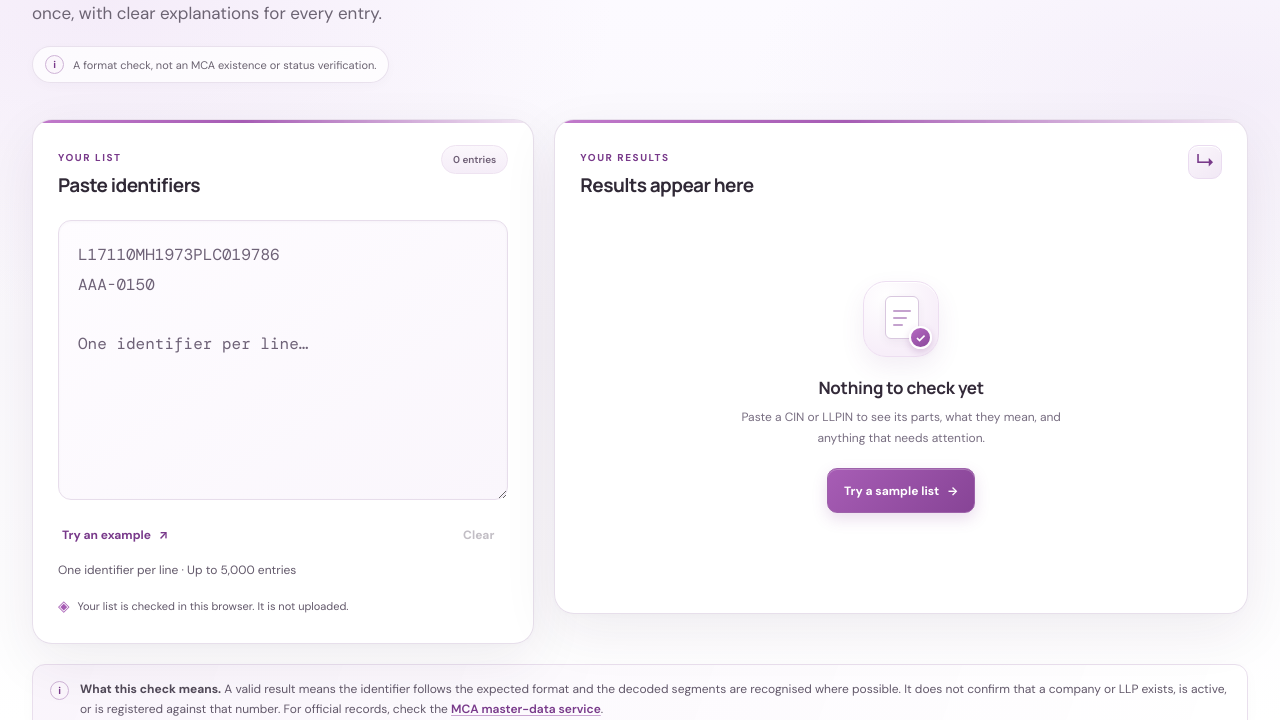
FileSure checker interface › clears the list and returns to the empty state
The width and height of the screenshot is (1280, 720).
(page scrolled)
Type "L17110MH1973PLC019786" into the text box named "Paste one CIN or LLPIN per line" at (283, 360), box [58,220,508,500]
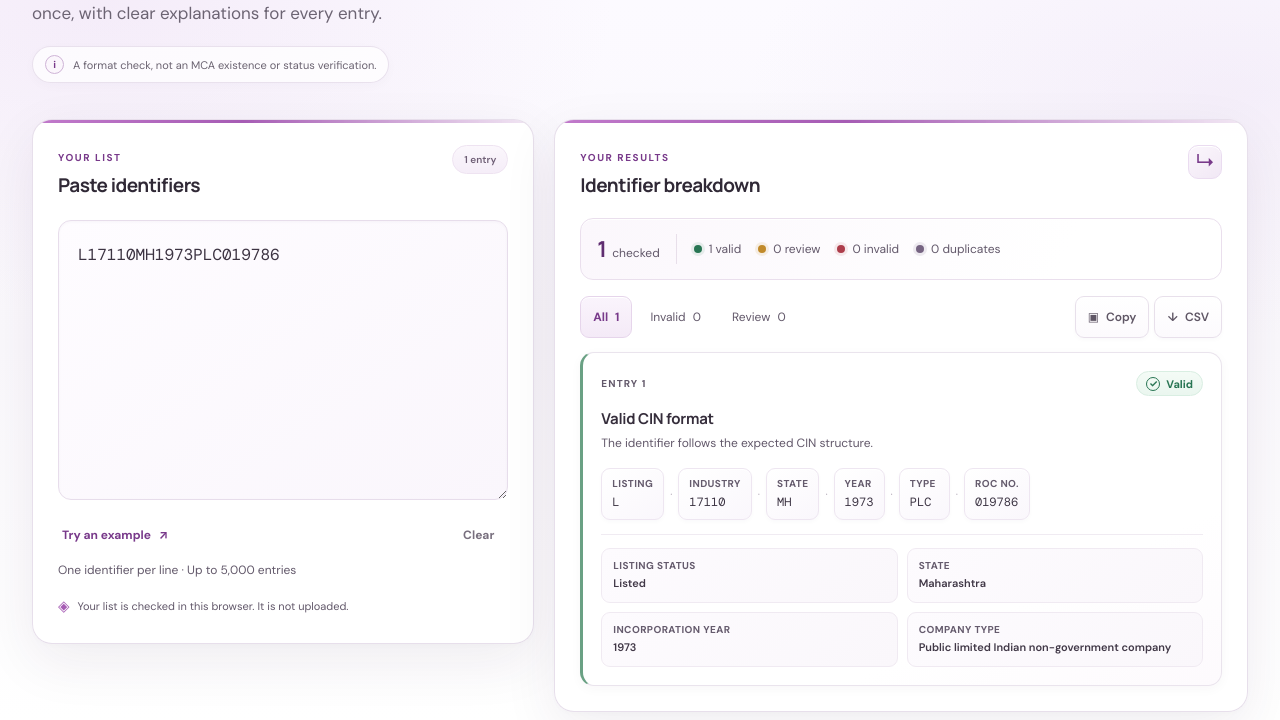
Now the heading "Identifier breakdown" is shown, box [580,172,760,198]
Click the button "Clear" at (479, 535), box [449,513,508,557]
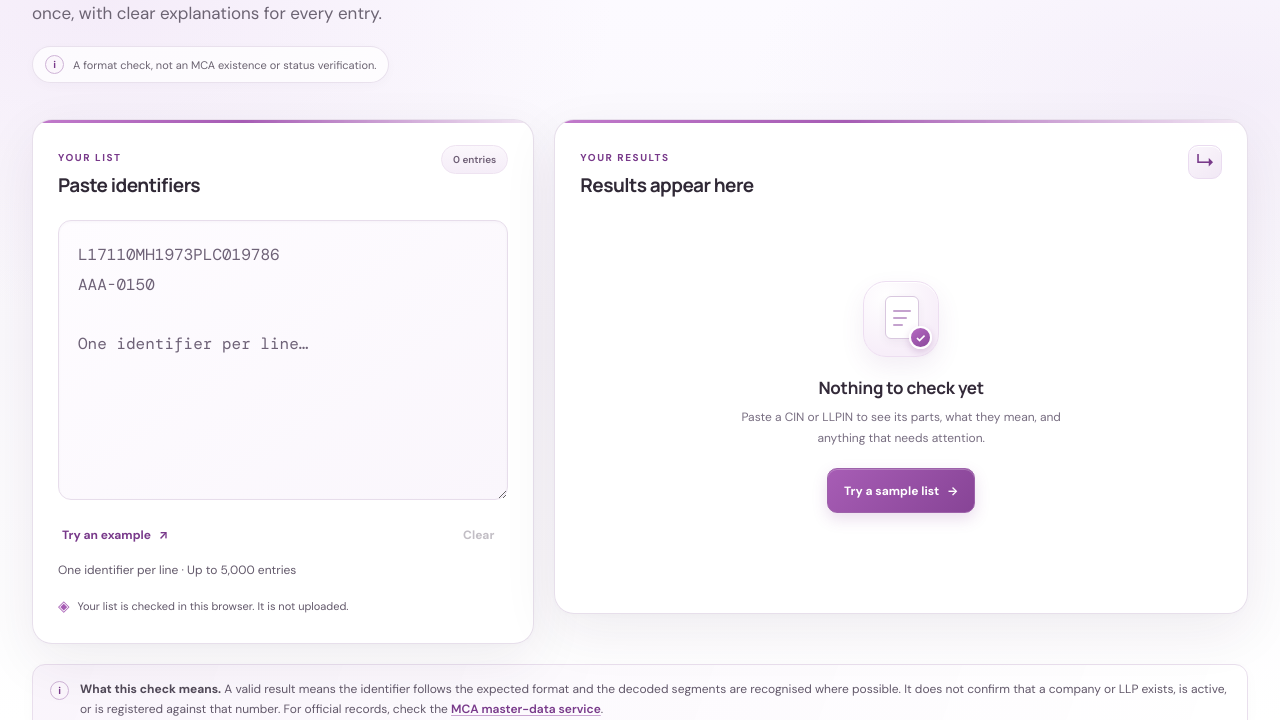
Now the heading "Nothing to check yet" is shown, box [818,376,984,399]
